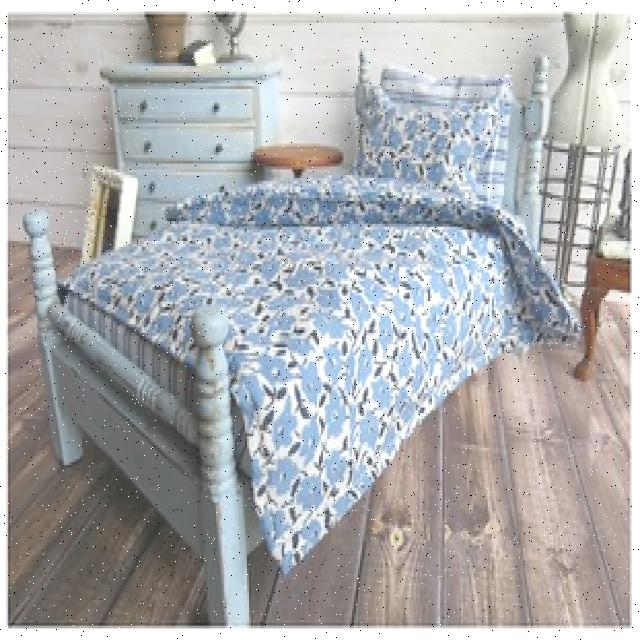bed: (49, 66, 552, 514)
